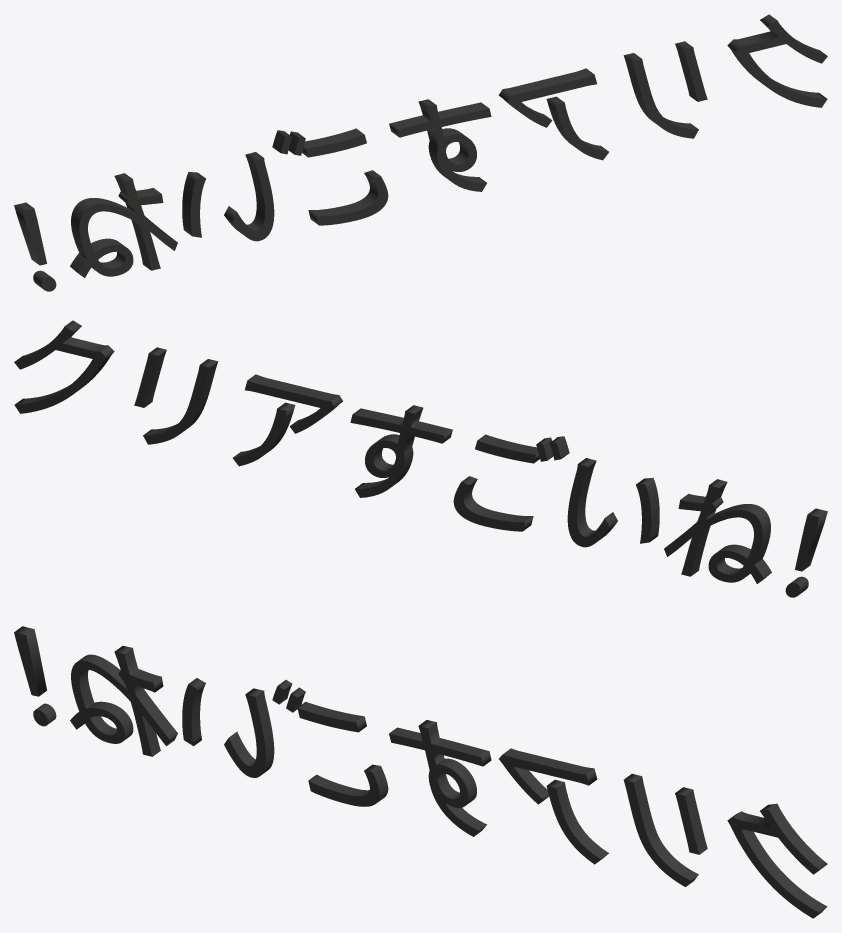
The model's file is ClearBest.obj.
The picture shows the model from 3 angles, top to bottom: view 1: azimuth 30°, elevation 25°; view 2: azimuth 150°, elevation 25°; view 3: azimuth 330°, elevation 25°; orthographic projection.
Visible parts, largest first — view 1: テキスト; view 2: テキスト; view 3: テキスト.
Boxes of the visible parts, x1=… form: テキスト: x1=14, y1=14, x2=827, y2=291; テキスト: x1=14, y1=320, x2=827, y2=597; テキスト: x1=14, y1=626, x2=827, y2=918.
Bounding box in the file's own units: 40.16 × 4.93 × 0.7271.
1 material, 1 textured.
